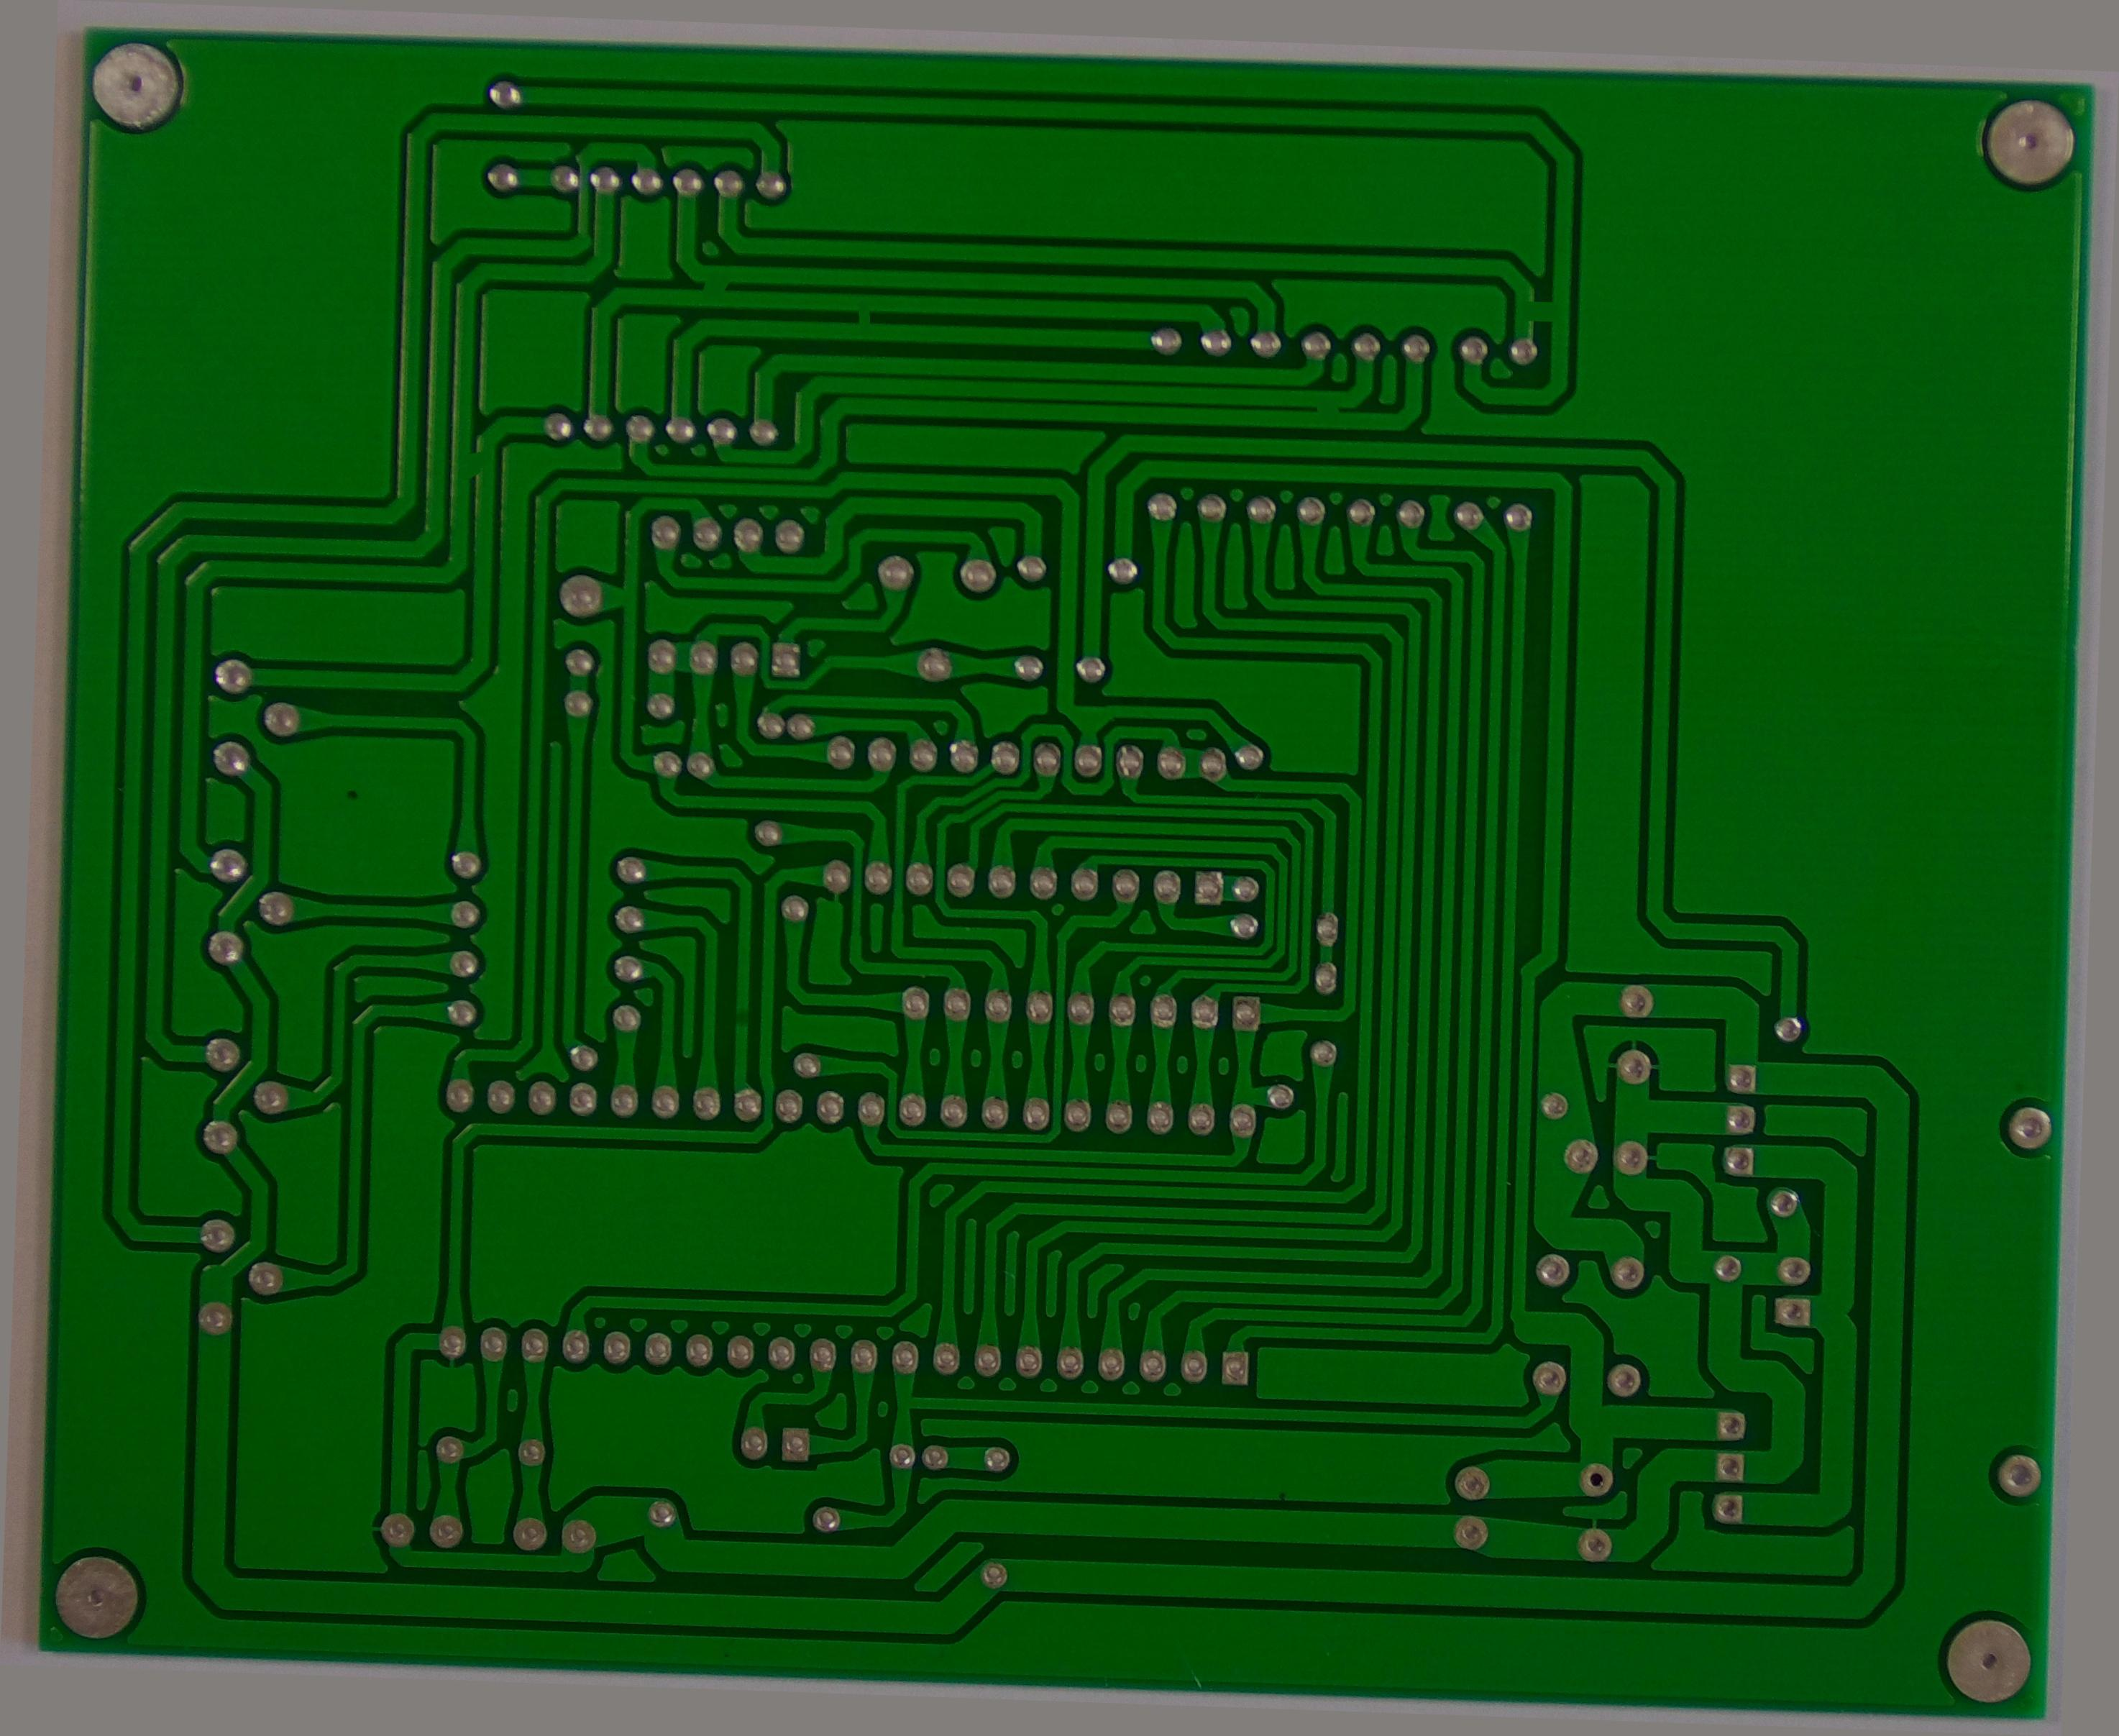short: (1507, 275, 1577, 338), (681, 255, 741, 313), (1297, 386, 1352, 431), (451, 440, 502, 488), (840, 289, 885, 342)
